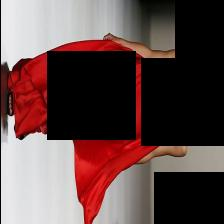red: (13, 66, 188, 134)
